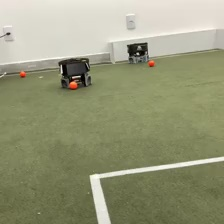ball: (67, 79, 78, 90), (18, 67, 26, 78), (147, 58, 155, 67)
goal: (106, 26, 224, 65)
robot: (56, 55, 94, 90), (125, 40, 150, 65)
